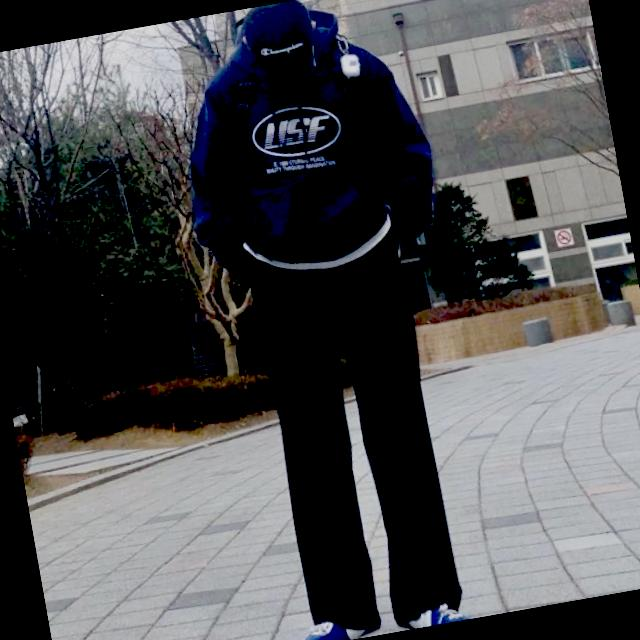hoodies: (164, 0, 446, 281)
slacks: (248, 223, 464, 640)
